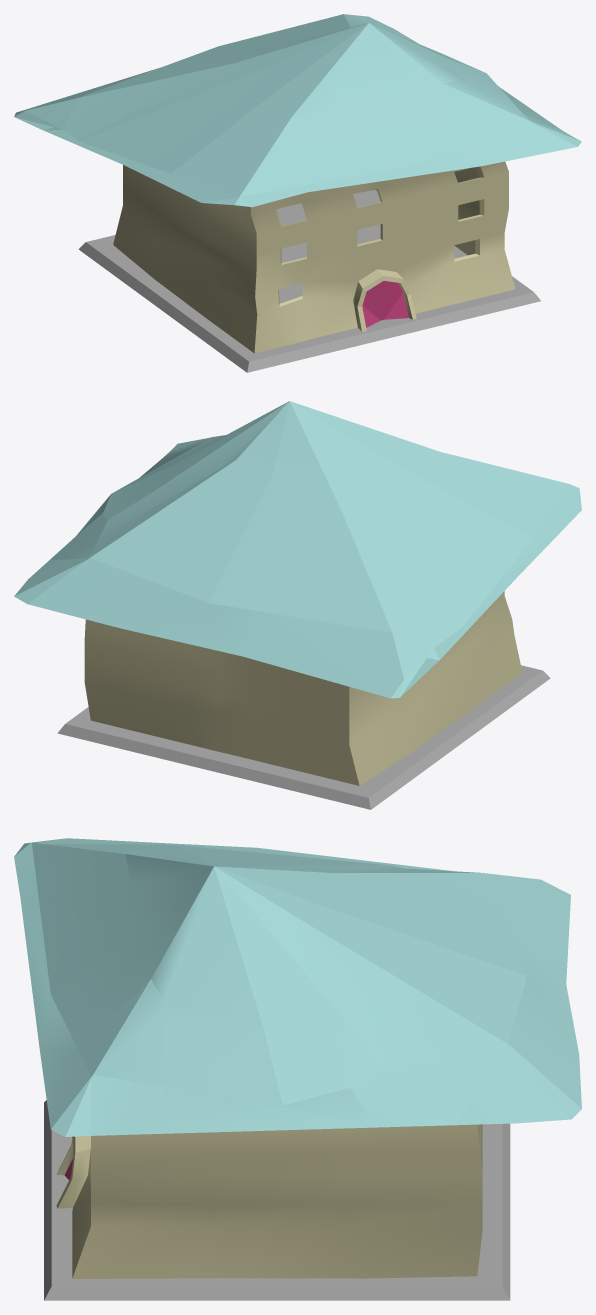
The model's file is mainhome.fbx.
3 renders of one model, top to bottom at view 1: azimuth 30°, elevation 25°; view 2: azimuth 150°, elevation 25°; view 3: azimuth 270°, elevation 25°, orthographic. The views are drawn at different scales.
Visible parts, largest first — view 1: pPyramid1, pasted__pCube1, pCube1; view 2: pPyramid1, pasted__pCube1, pCube1; view 3: pPyramid1, pasted__pCube1, pCube1.
Boxes of the visible parts, x1=… form: pPyramid1: x1=14, y1=14, x2=581, y2=207; pasted__pCube1: x1=113, y1=161, x2=515, y2=353; pCube1: x1=78, y1=190, x2=540, y2=372; pPyramid1: x1=14, y1=401, x2=581, y2=698; pasted__pCube1: x1=84, y1=591, x2=522, y2=785; pCube1: x1=57, y1=665, x2=550, y2=809; pPyramid1: x1=14, y1=838, x2=581, y2=1136; pasted__pCube1: x1=56, y1=1124, x2=482, y2=1278; pCube1: x1=44, y1=1100, x2=510, y2=1300.
Bounding box in the file's own units: 24.06 × 15.26 × 21.85.
